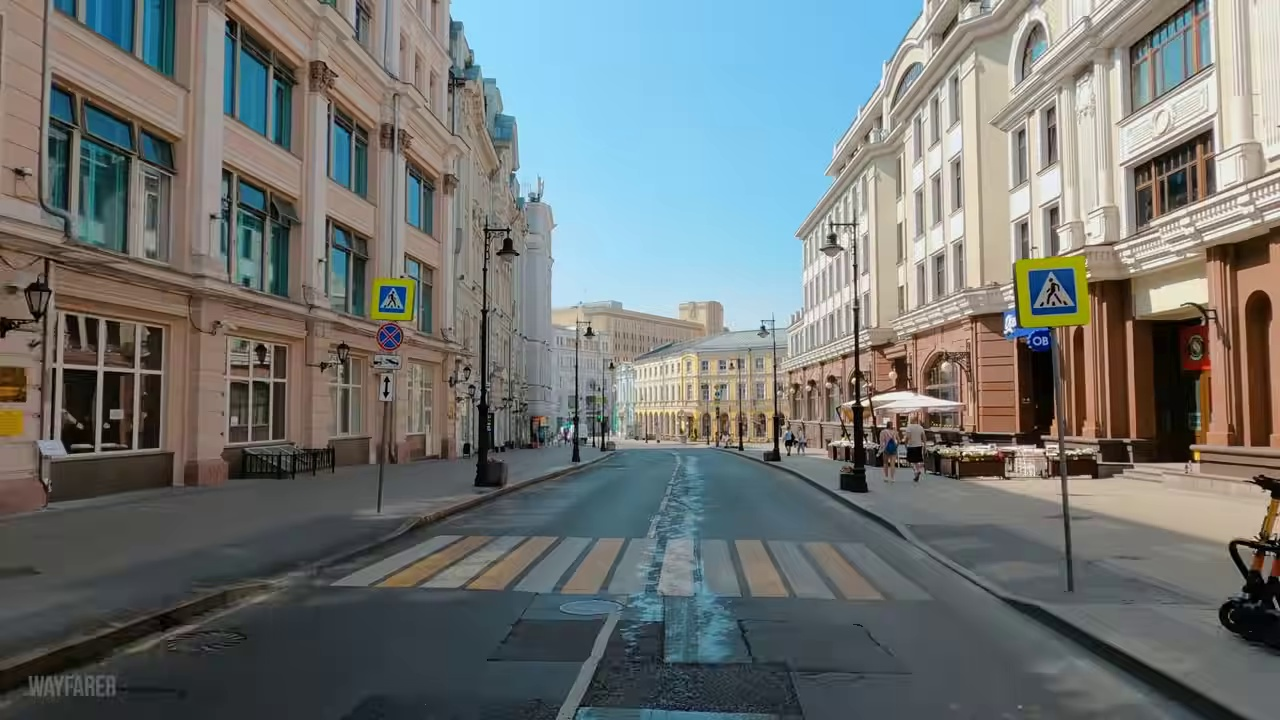apagada: (809, 236, 844, 264), (490, 235, 521, 265)
